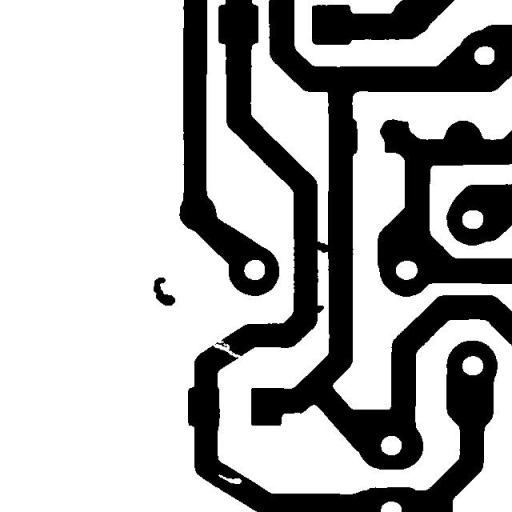copper: (146, 270, 182, 312)
open: (204, 332, 248, 366)
pin-hole: (210, 466, 249, 492)
short: (306, 234, 340, 260)
spur: (306, 297, 332, 321)
